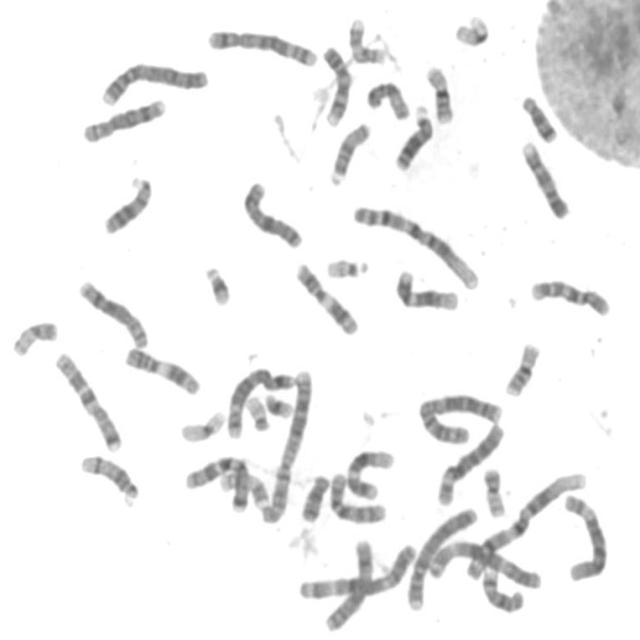A1: (460, 466, 590, 584), (347, 197, 483, 291)
A2: (256, 363, 314, 524), (412, 385, 506, 446)
A3: (294, 536, 420, 602), (423, 532, 544, 591)
B4: (400, 501, 479, 614), (94, 56, 210, 106)
B5: (221, 361, 298, 440), (202, 22, 320, 68)
C10: (525, 272, 613, 319), (324, 465, 389, 525)
C11: (289, 256, 362, 338), (119, 340, 203, 398)
C12: (390, 263, 461, 313), (341, 442, 397, 502)
C6: (432, 416, 507, 507), (558, 488, 610, 583)
C7: (49, 344, 125, 454), (180, 447, 253, 514)
C8: (73, 273, 150, 350), (76, 90, 168, 144)
C9: (516, 134, 572, 221), (317, 39, 354, 128)
D13: (98, 168, 154, 236), (388, 98, 434, 172)
D14: (75, 448, 141, 507), (477, 562, 527, 614)
D15: (324, 116, 372, 188), (361, 74, 412, 121)
E16: (499, 336, 542, 398), (421, 58, 456, 125)
E17: (343, 12, 388, 66), (215, 467, 272, 508)
E18: (515, 87, 559, 144), (296, 468, 332, 524)
F19: (175, 404, 228, 445), (448, 8, 492, 48)
F20: (6, 314, 59, 358), (478, 461, 508, 518)
G21: (199, 258, 233, 307), (258, 385, 296, 419)
G22: (320, 250, 371, 280), (242, 389, 272, 432)
X: (319, 533, 376, 633), (237, 173, 306, 250)
